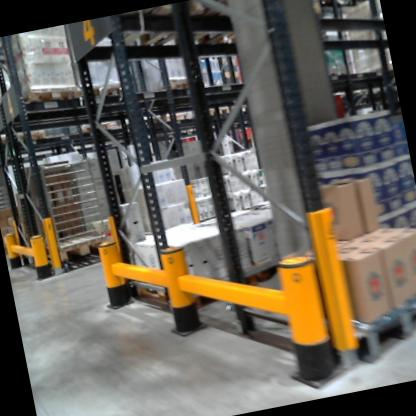pallet: (298, 266, 416, 371), (122, 245, 263, 326), (97, 0, 236, 62), (175, 0, 316, 57), (30, 217, 115, 268), (246, 237, 318, 294), (13, 81, 79, 118), (153, 69, 201, 103), (75, 111, 125, 143), (77, 78, 130, 103), (3, 126, 52, 150), (145, 107, 190, 129), (202, 102, 232, 119), (406, 236, 416, 286), (0, 120, 13, 146)
